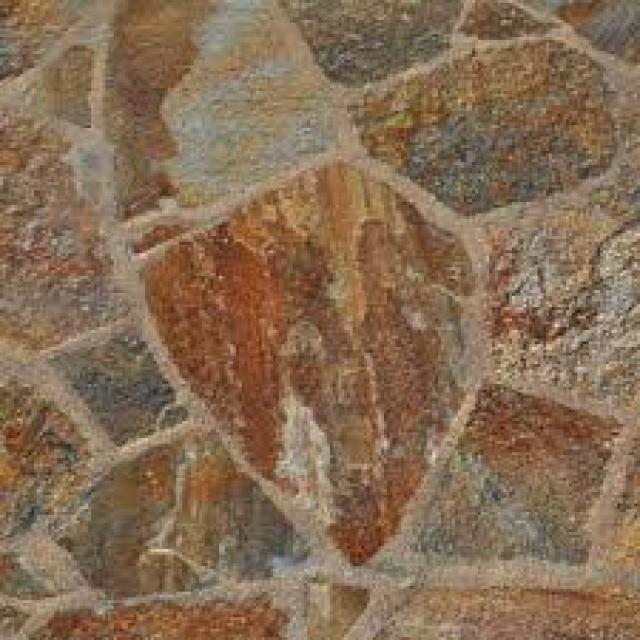Metamorphic: (11, 14, 626, 640)
